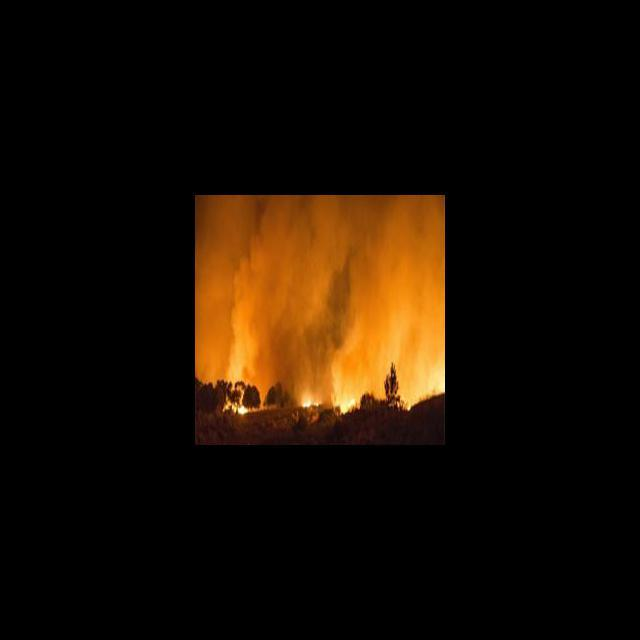Fire: (195, 209, 444, 416)
